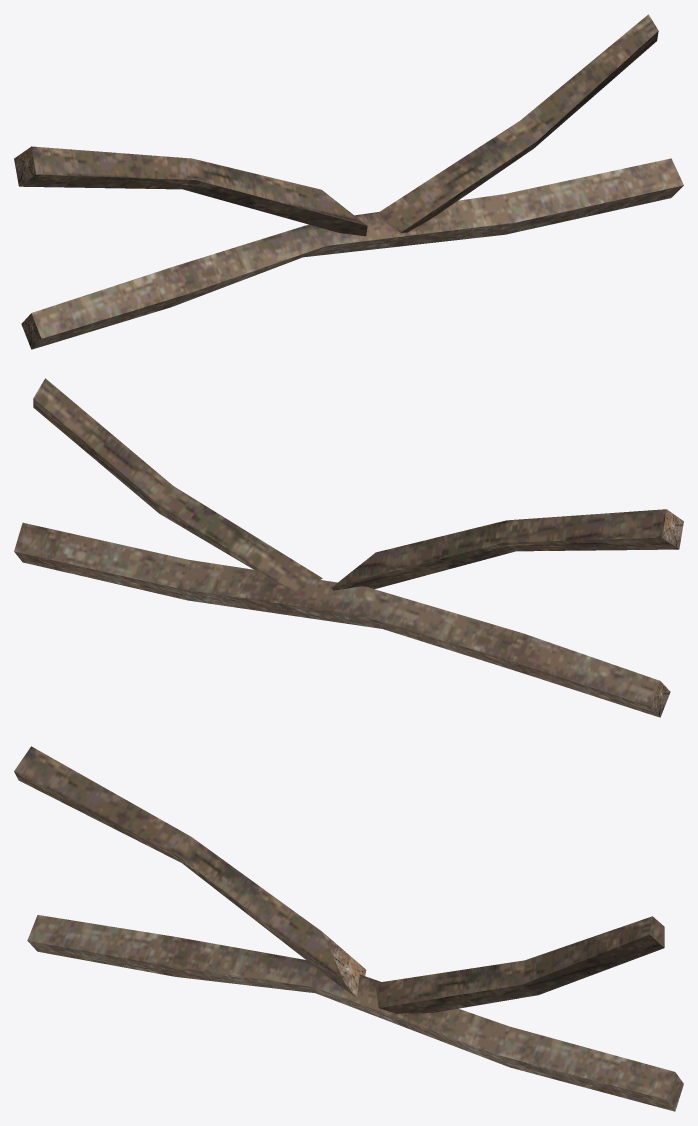
File: WoodRailFence_Panel_Broken02_Model.fbx
3 renders of one model, top to bottom at view 1: azimuth 30°, elevation 25°; view 2: azimuth 150°, elevation 25°; view 3: azimuth 330°, elevation 25°, orthographic.
Visible parts, largest first — view 1: Body; view 2: Body; view 3: Body.
Part boxes in pixels (x1,y1,x2,y2): Body: (14, 14, 683, 349); Body: (14, 378, 683, 717); Body: (14, 746, 683, 1111).
Bounding box in the file's own units: 200 × 60.88 × 13.64.
